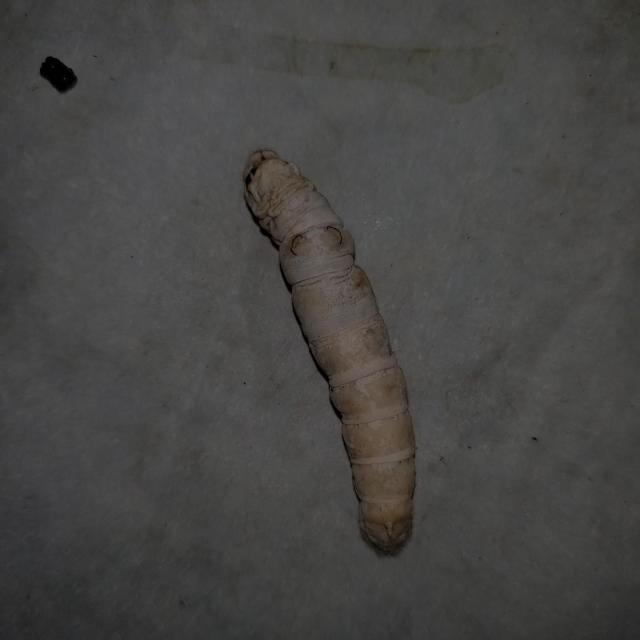Grasserie: (221, 134, 456, 566)
